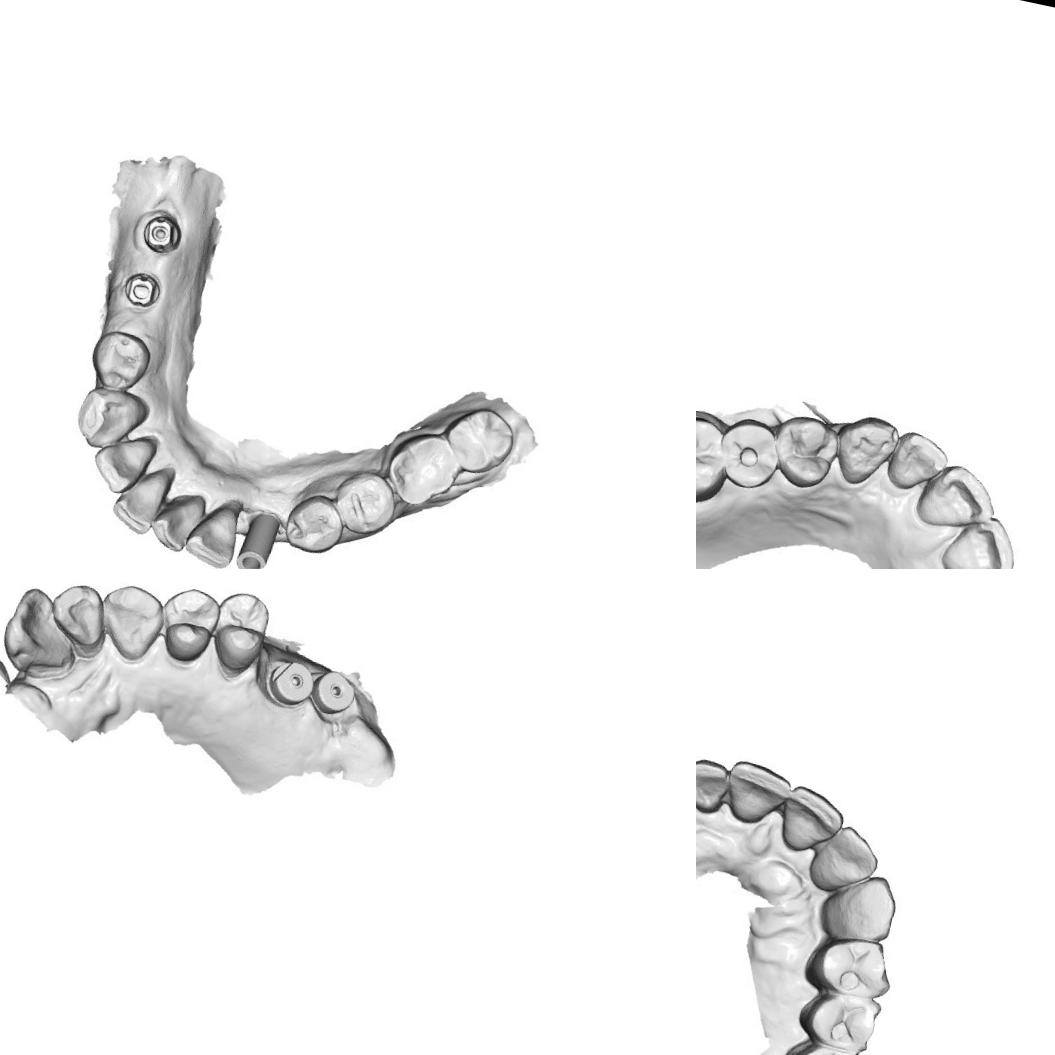canine: (812, 862, 906, 951), (90, 580, 172, 670), (74, 380, 150, 458), (837, 414, 901, 486)
implant: (229, 503, 286, 569), (262, 654, 324, 712), (132, 205, 188, 262), (313, 668, 361, 720), (123, 265, 164, 311)
incisor: (0, 584, 88, 685), (718, 756, 799, 838), (802, 823, 880, 902), (106, 455, 176, 540), (919, 464, 997, 538), (87, 425, 160, 500), (180, 492, 248, 569), (777, 784, 846, 858), (47, 583, 113, 657), (144, 483, 208, 559), (938, 513, 1021, 569), (886, 430, 948, 498), (696, 752, 739, 821)
molar: (380, 424, 465, 515), (439, 399, 522, 482), (696, 409, 731, 505), (767, 1032, 867, 1055)
premolar: (797, 924, 901, 1006), (791, 983, 888, 1055), (83, 322, 157, 397), (327, 466, 400, 542), (210, 590, 274, 672), (716, 416, 784, 492), (278, 486, 348, 558), (157, 584, 220, 660), (776, 412, 840, 482)
